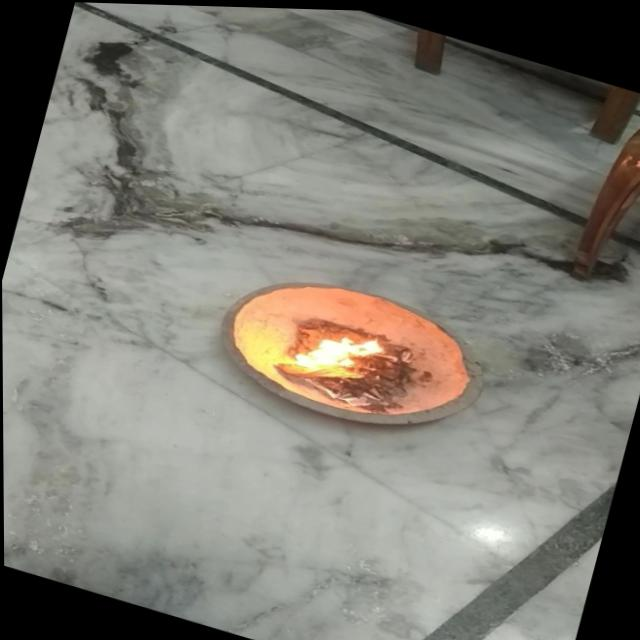fire: (280, 306, 394, 393)
